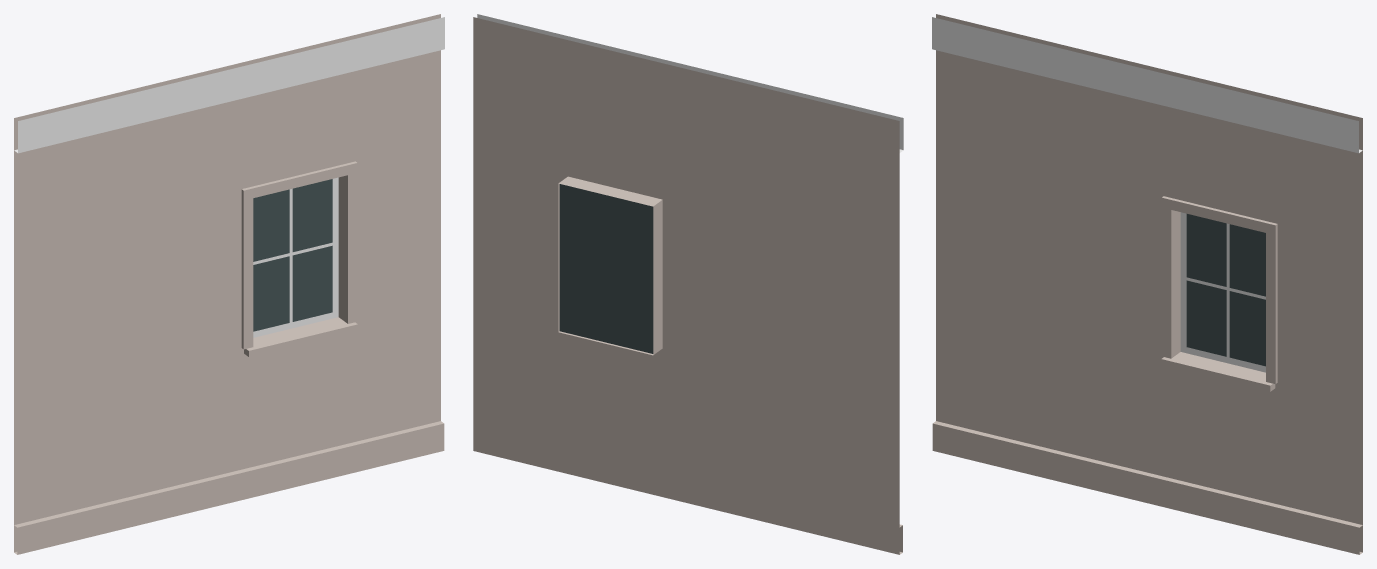
Rendered from top-w2.fbx.
The picture shows the model from 3 angles, left to right: view 1: azimuth 30°, elevation 25°; view 2: azimuth 150°, elevation 25°; view 3: azimuth 330°, elevation 25°; orthographic projection.
Visible parts, largest first — view 1: a2000s3/400/top-w2; view 2: a2000s3/400/top-w2; view 3: a2000s3/400/top-w2.
Boxes of the visible parts, x1=… form: a2000s3/400/top-w2: x1=14, y1=14, x2=444, y2=554; a2000s3/400/top-w2: x1=473, y1=14, x2=903, y2=554; a2000s3/400/top-w2: x1=932, y1=14, x2=1362, y2=554.
Bounding box in the file's own units: 3.6 × 3.5 × 0.21.
